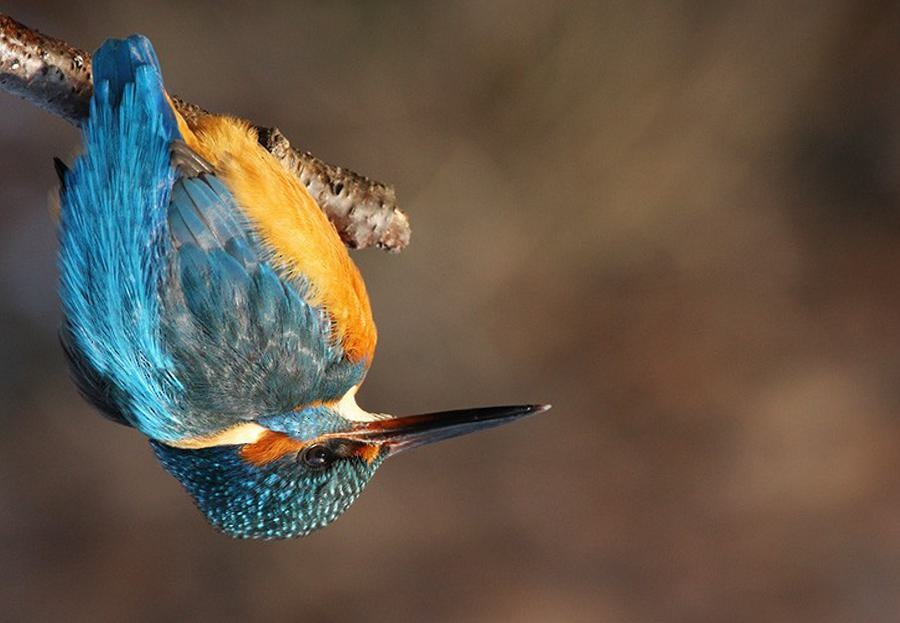kingfisher: (70, 41, 571, 537)
